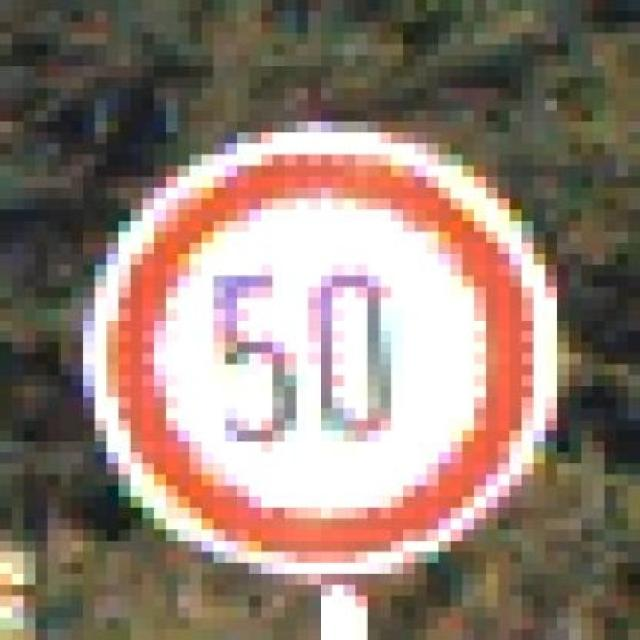forb_speed_over_50: (110, 136, 527, 561)
